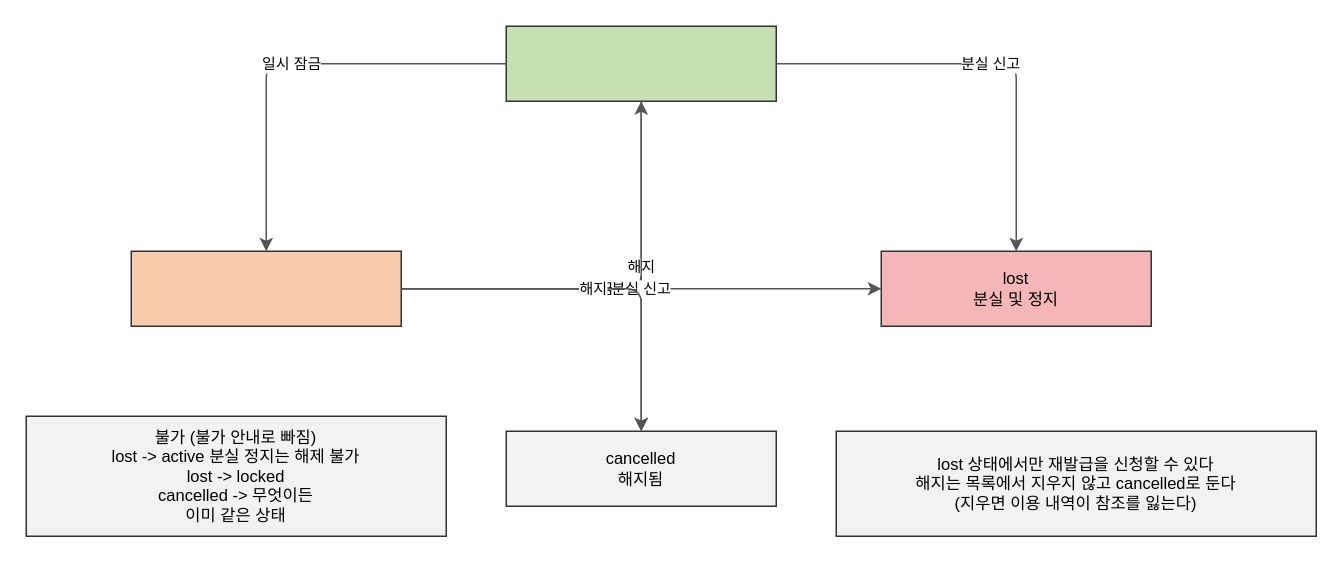
Some shapes in this 1343 by 563 pixel diagram are drawn without their labels. The box of each missing label's shape, as (x1, y1, x2, y2) in pixels:
active 사용 가능 (초기값): (505, 25, 776, 101)
locked 일시 잠금: (130, 250, 401, 326)
